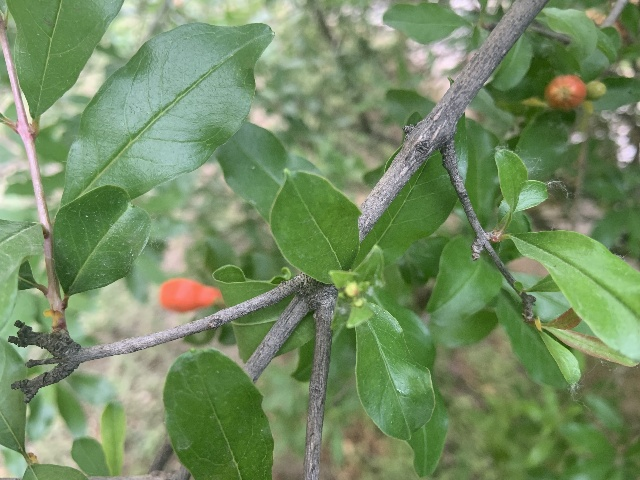bud: (158, 278, 223, 313), (543, 74, 586, 110), (585, 80, 606, 102)
